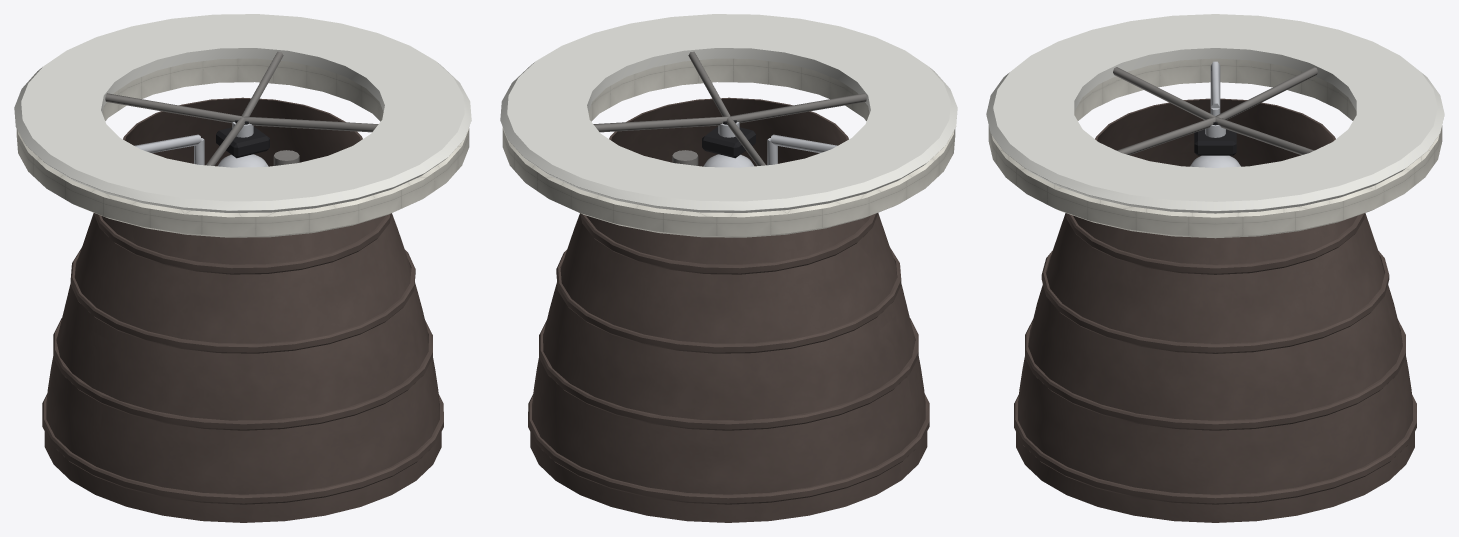
File: ax_prop_10_hydrolox_vac_m.glb
3 renders of one model, left to right at view 1: azimuth 30°, elevation 25°; view 2: azimuth 150°, elevation 25°; view 3: azimuth 270°, elevation 25°, orthographic.
Parts seen in each view (by area): view 1: nozzle_extension, mount_ring, thermal_blanket_ring, extension_hoops, thrust_struts, gimbal, plumbing, injector_dome; view 2: nozzle_extension, mount_ring, thermal_blanket_ring, extension_hoops, thrust_struts, gimbal, plumbing, injector_dome; view 3: nozzle_extension, mount_ring, thermal_blanket_ring, extension_hoops, thrust_struts, gimbal, injector_dome, plumbing.
Boxes of the visible parts, left/top/right/bottom form: nozzle_extension: left=44, top=97, right=441, bottom=522; mount_ring: left=14, top=14, right=471, bottom=212; thermal_blanket_ring: left=16, top=58, right=469, bottom=237; extension_hoops: left=42, top=213, right=443, bottom=504; thrust_struts: left=105, top=51, right=378, bottom=165; gimbal: left=216, top=120, right=269, bottom=158; plumbing: left=134, top=134, right=204, bottom=165; injector_dome: left=218, top=122, right=268, bottom=167; nozzle_extension: left=530, top=97, right=927, bottom=522; mount_ring: left=500, top=14, right=957, bottom=212; thermal_blanket_ring: left=502, top=58, right=955, bottom=237; extension_hoops: left=528, top=213, right=929, bottom=504; thrust_struts: left=593, top=51, right=866, bottom=165; gimbal: left=702, top=120, right=755, bottom=158; plumbing: left=767, top=134, right=837, bottom=165; injector_dome: left=703, top=122, right=753, bottom=167; nozzle_extension: left=1016, top=98, right=1414, bottom=522; mount_ring: left=986, top=14, right=1444, bottom=213; thermal_blanket_ring: left=988, top=58, right=1442, bottom=238; extension_hoops: left=1014, top=213, right=1416, bottom=504; thrust_struts: left=1113, top=67, right=1317, bottom=155; gimbal: left=1194, top=118, right=1236, bottom=155; injector_dome: left=1190, top=125, right=1240, bottom=167; plumbing: left=1210, top=61, right=1220, bottom=115.
Size of the model in its own units: 2.5 by 1.99 by 2.5.
Materials: 6 (4 with a texture image).
